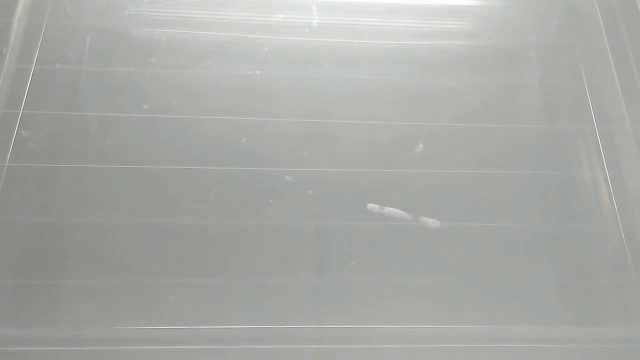alpha: (362, 200, 442, 231)
